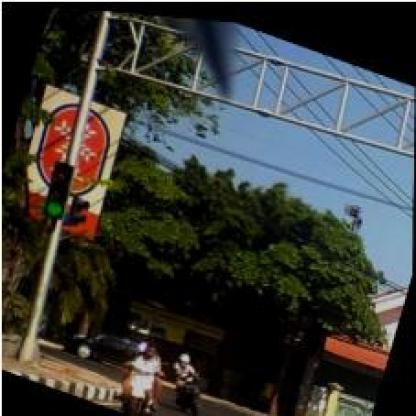green: (40, 157, 75, 221)
